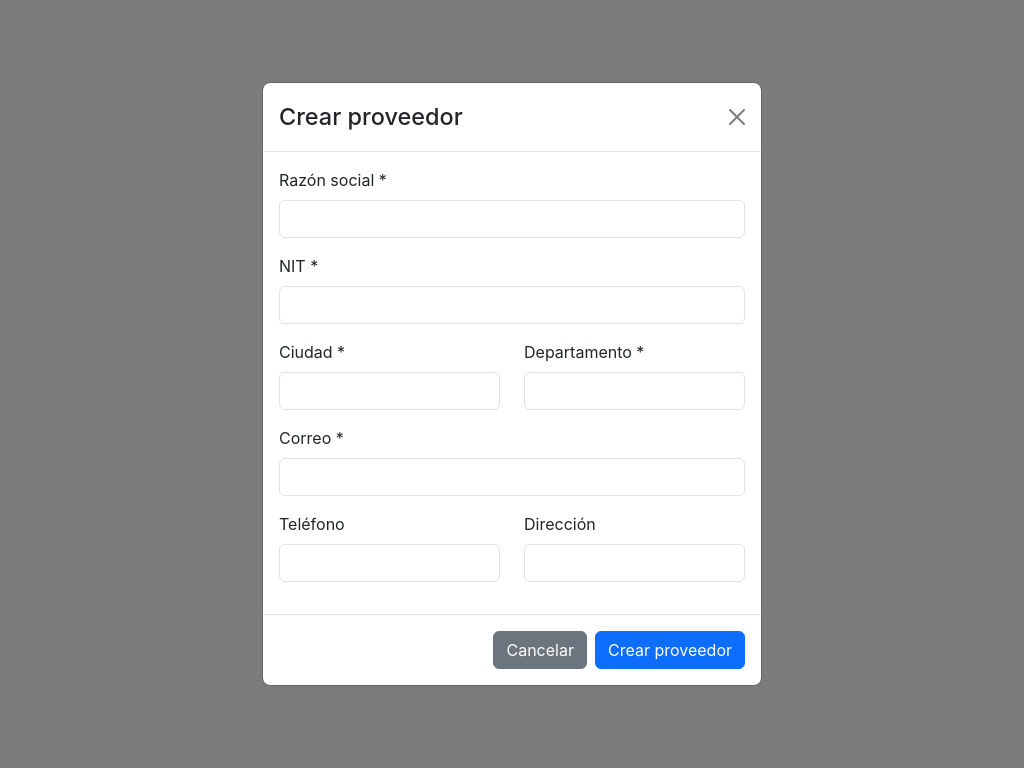
CrearProveedorModal › rejects a NIT with letters or a verification digit
This screenshot has width=1024, height=768.
Step 1. Type "Metrologia Andina SAS" into the field labelled "Razón social *" → (512, 219), box [279,200,745,238]
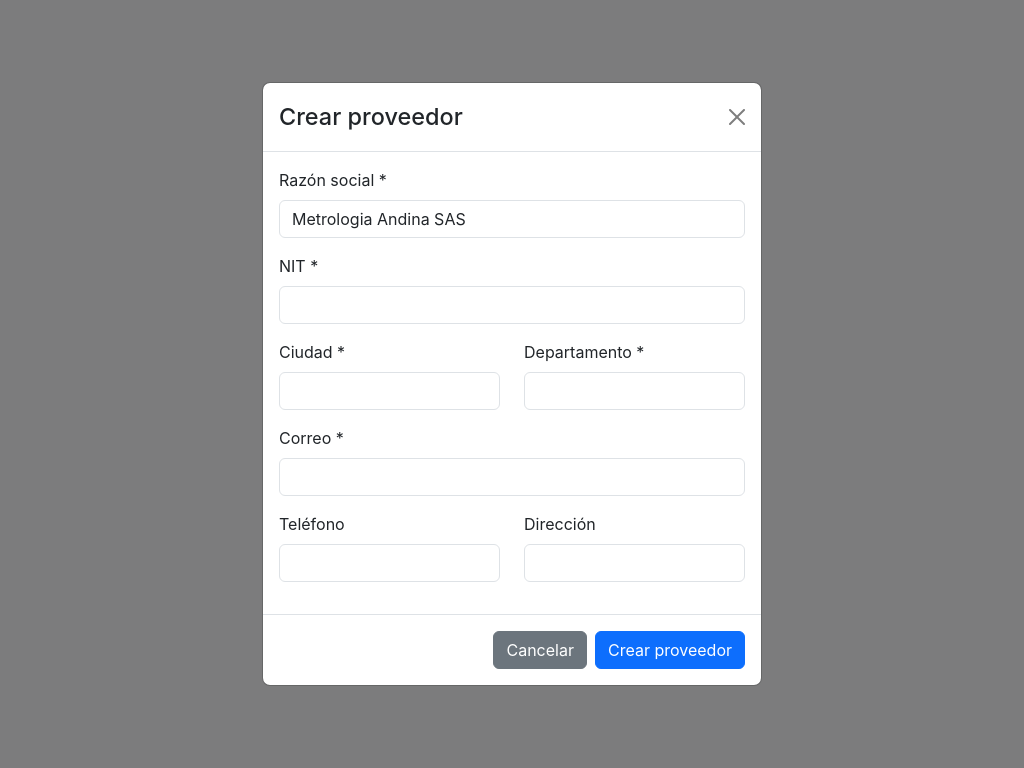
Step 2. Type "900111222-3" into the field labelled "NIT *" → (512, 305), box [279,286,745,324]
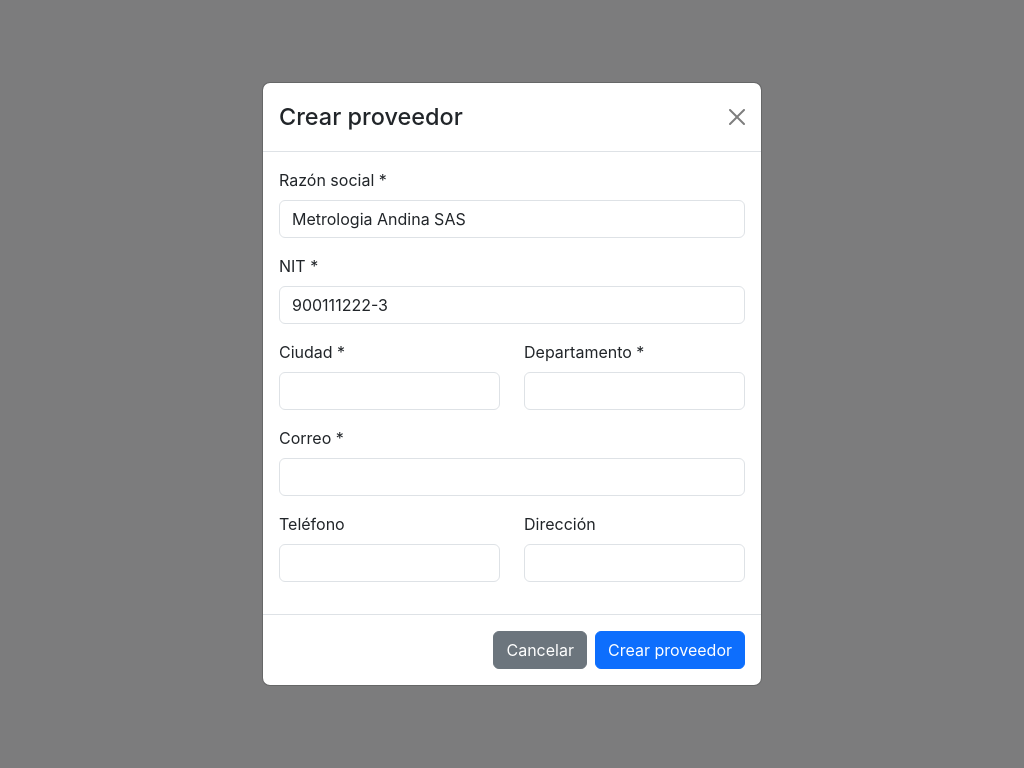
Step 3. Type "Bogota" into the field labelled "Ciudad *" → (390, 391), box [279,372,500,410]
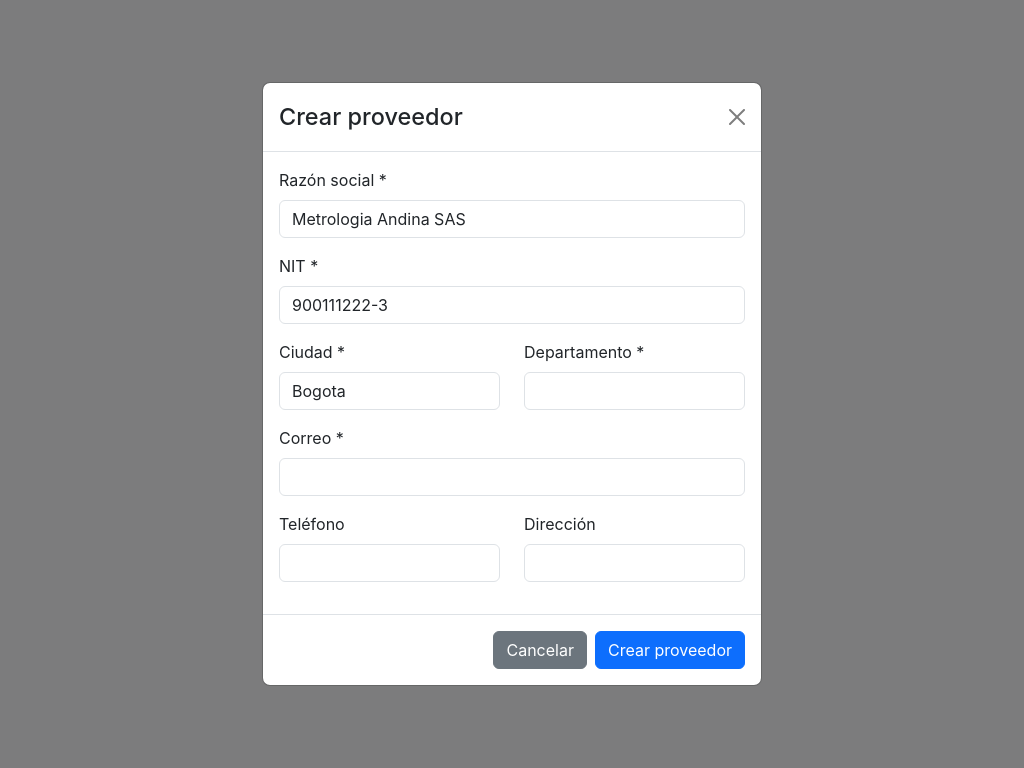
Step 4. Type "Cundinamarca" into the field labelled "Departamento *" → (634, 391), box [524,372,745,410]
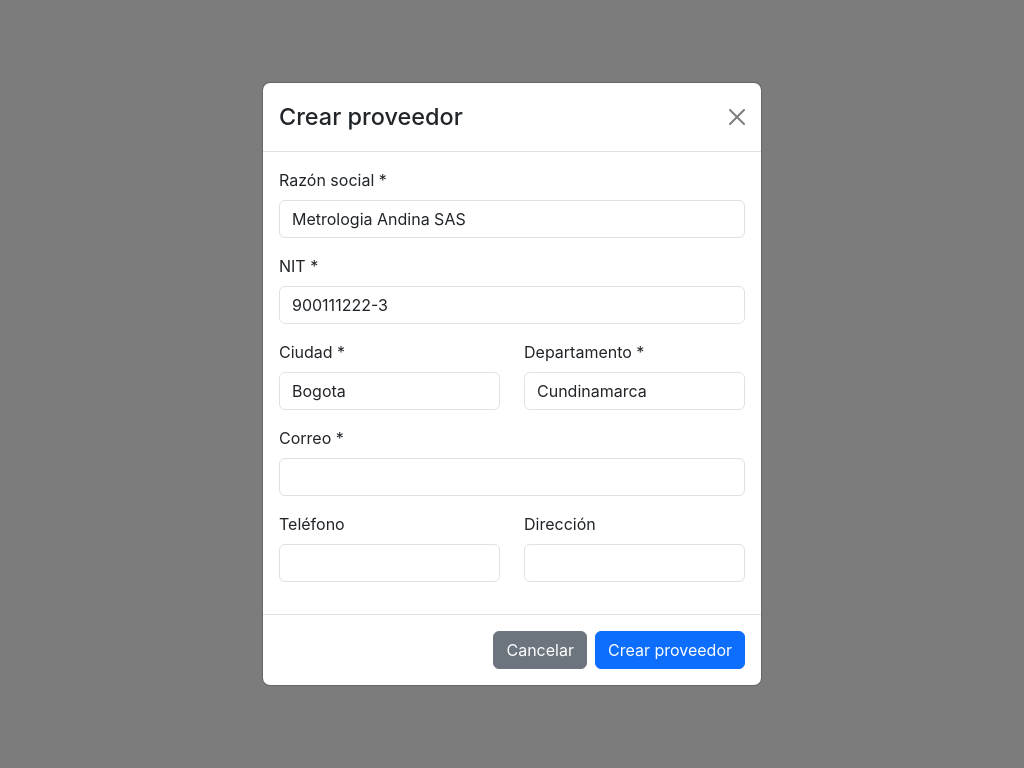
Step 5. Type "contacto@metrologia.example" into the field labelled "Correo *" → (512, 477), box [279,458,745,496]
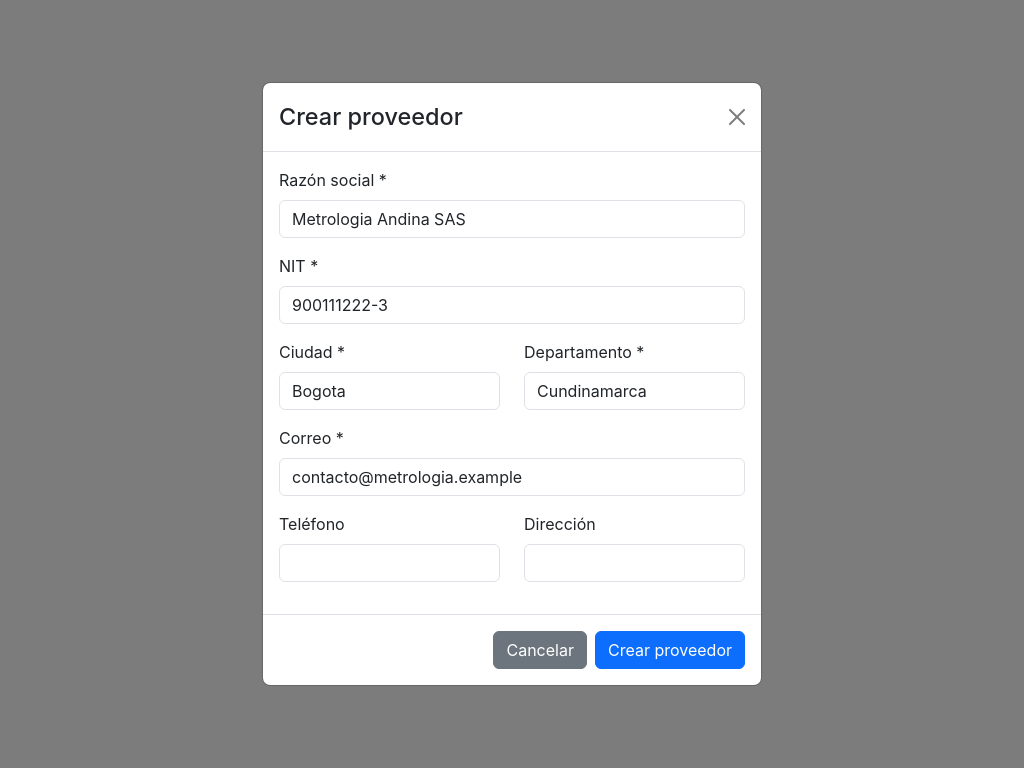
Step 6. Click the button "Crear proveedor" → (670, 650), box [595,631,745,669]
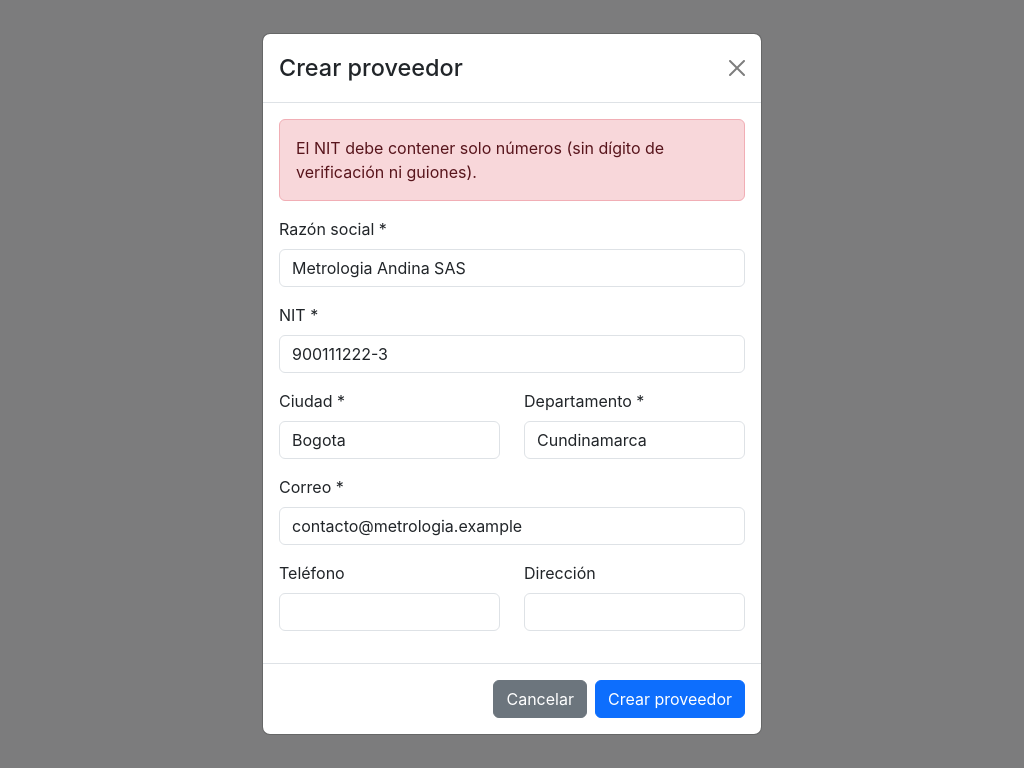
Expected: the text "El NIT debe contener solo números (sin dígito de verificación ni guiones)." is shown, [279,119,745,201]
